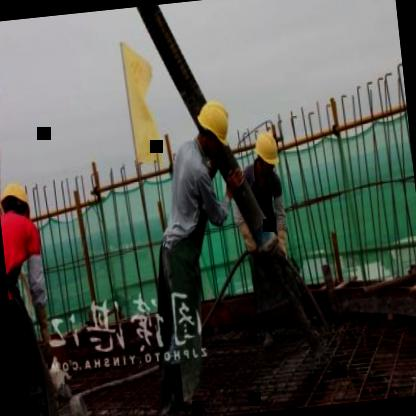helmet: (192, 95, 234, 163), (249, 125, 282, 181), (0, 177, 33, 224)
